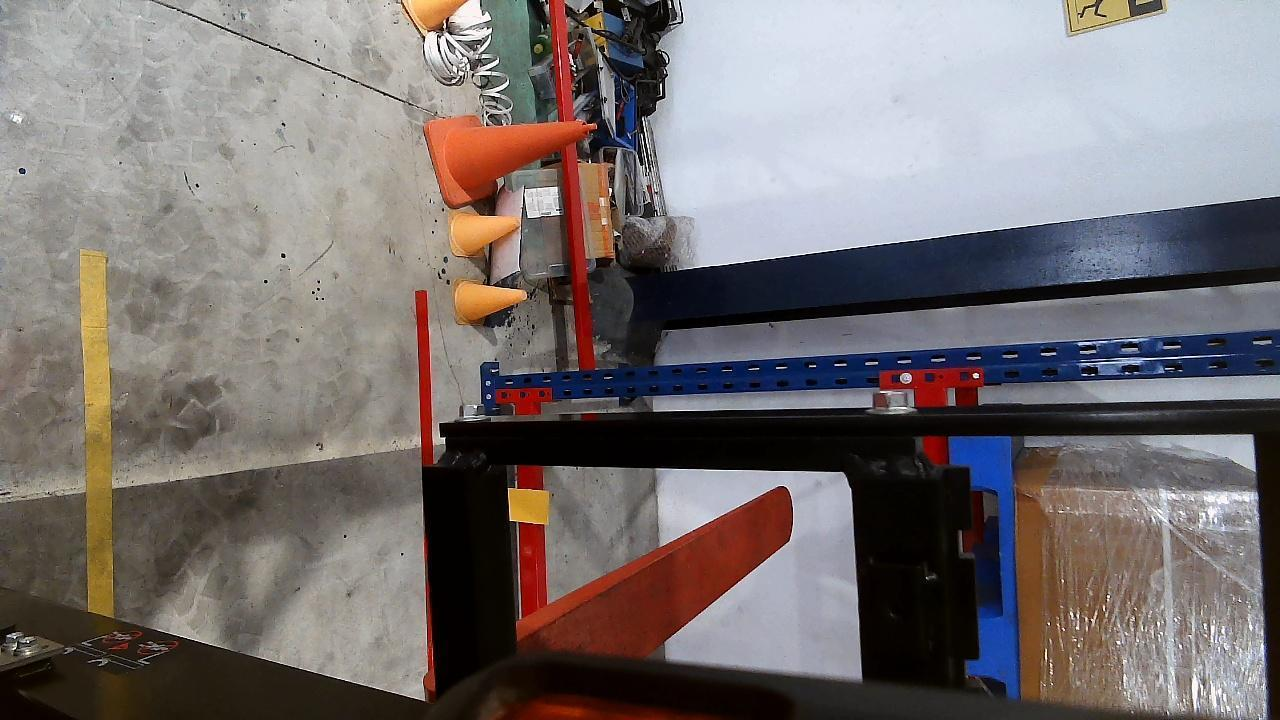red_line: (413, 289, 436, 464)
yellow_line: (79, 250, 113, 615)
